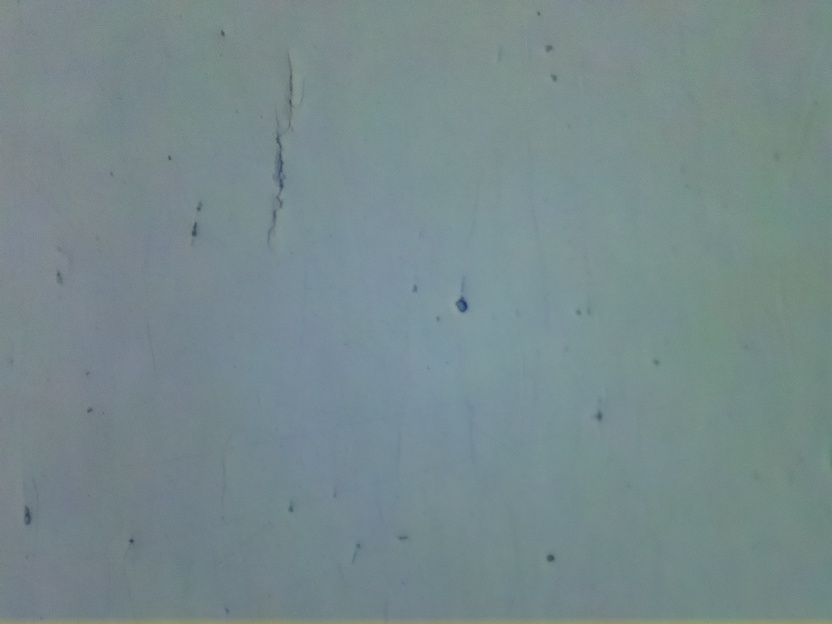crack: (268, 49, 305, 240)
